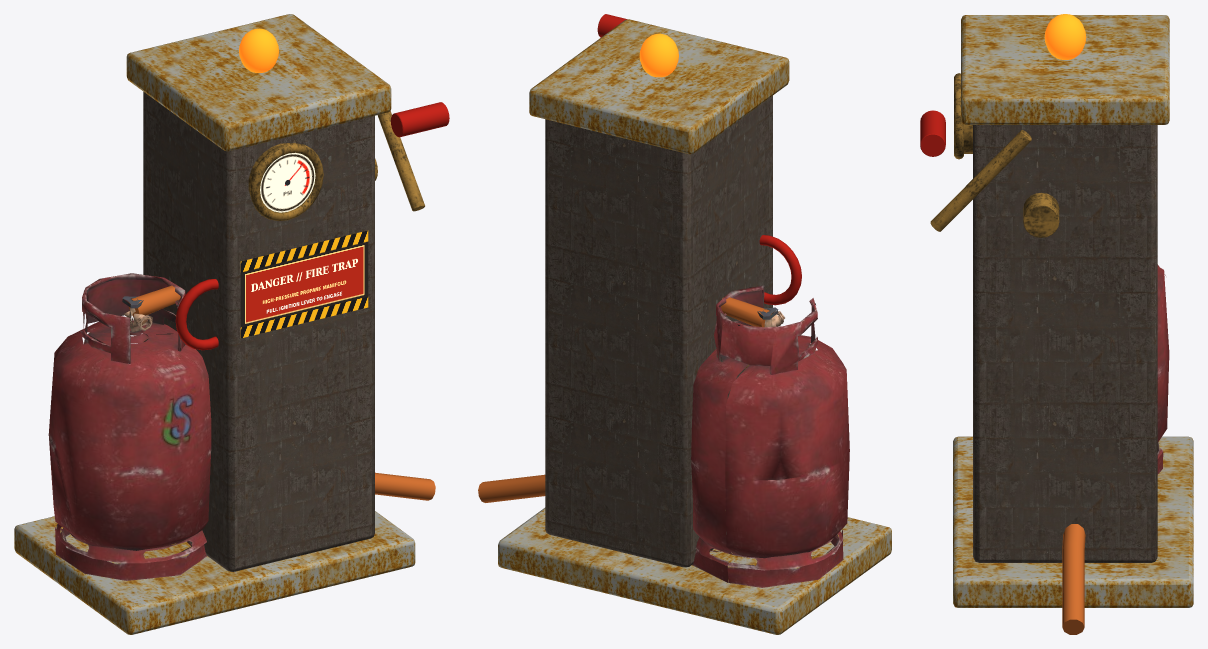
The model's file is fire_trap.glb.
3 renders of one model, left to right at view 1: azimuth 30°, elevation 25°; view 2: azimuth 150°, elevation 25°; view 3: azimuth 270°, elevation 25°, orthographic. The views are drawn at different scales.
Visible parts, largest first — view 1: FireTrapConsole, FireTrapPlacard, PullLever, FireTrapGaugeDial, IndicatorLamp; view 2: FireTrapConsole, IndicatorLamp; view 3: FireTrapConsole, PullLever, IndicatorLamp.
Part boxes in pixels (box(x1,y1,x2,y2)): FireTrapConsole: box(14, 14, 435, 634); FireTrapPlacard: box(240, 230, 368, 338); PullLever: box(377, 102, 449, 211); FireTrapGaugeDial: box(260, 152, 315, 212); IndicatorLamp: box(239, 28, 278, 72); FireTrapConsole: box(478, 19, 891, 634); IndicatorLamp: box(639, 33, 678, 77); FireTrapConsole: box(953, 15, 1193, 634); PullLever: box(920, 110, 1031, 231); IndicatorLamp: box(1044, 14, 1086, 59).
Bounding box in the file's own units: 1.1 × 1.49 × 0.682.
9 materials, 6 textured.
